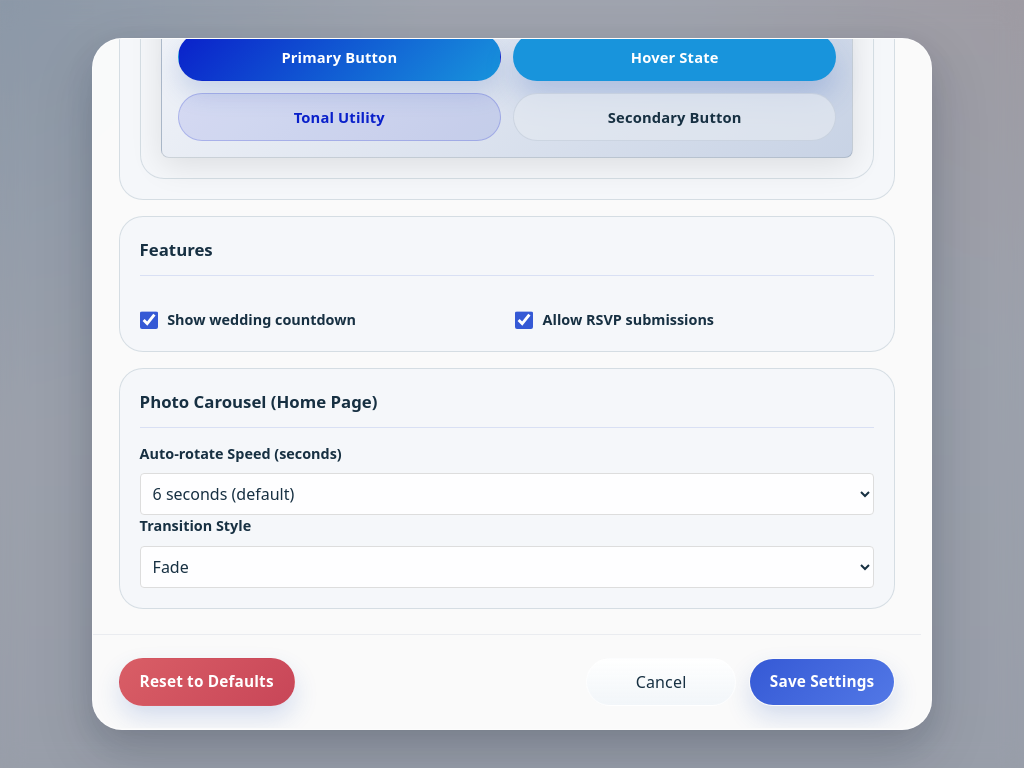
it: SettingsModal › shows fallback save error message when rejection has no message
The image size is (1024, 768).
(page scrolled)
Click the button "Save Settings". click: (822, 682)
box: [749,658,895,706]
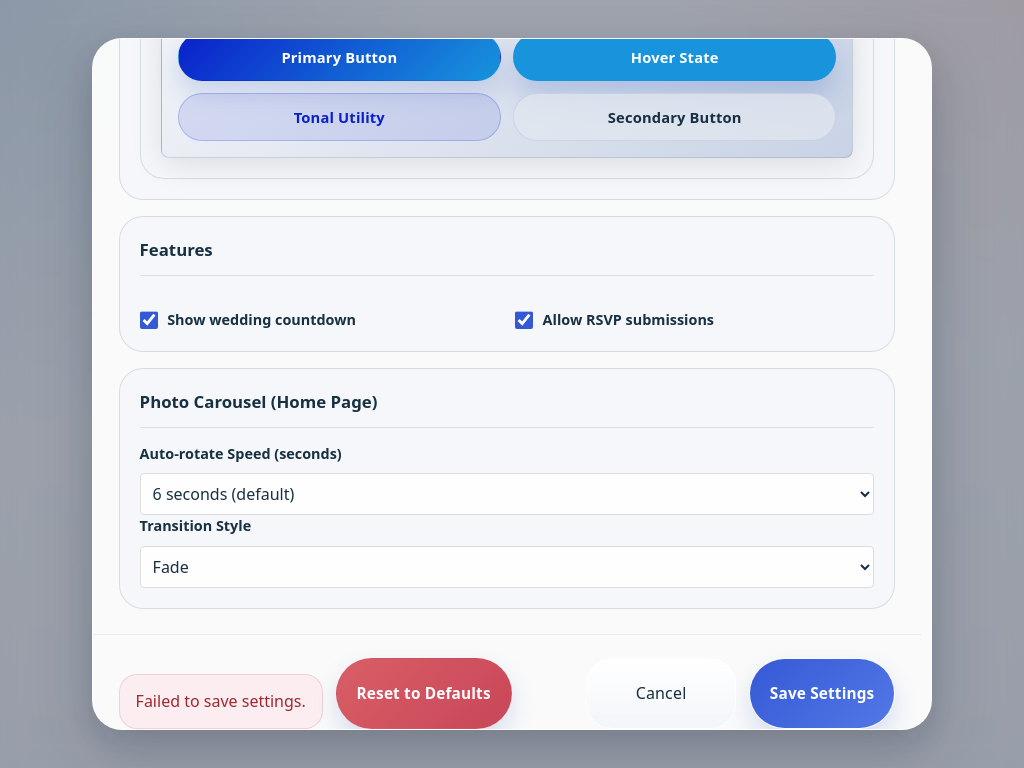
Expected: the text "Failed to save settings." is shown, [119,674,323,728]
